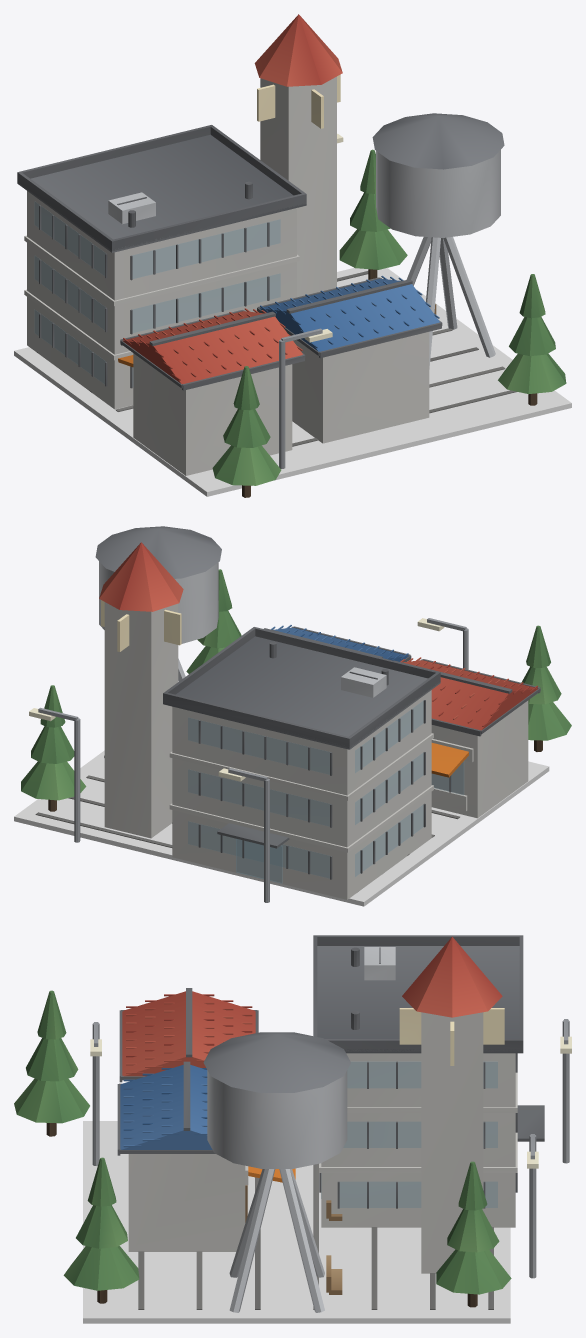
The model's file is Civic_P2.fbx.
3 views of the same model, one above another, from view 1: azimuth 30°, elevation 25°; view 2: azimuth 150°, elevation 25°; view 3: azimuth 270°, elevation 25° (orthographic). The views are drawn at different scales.
Visible parts, largest first — view 1: Civic.Hall, Civic.Shop1, Civic.Shop0, Civic.WaterTower, Civic.Plaza, Civic.Tower, Civic.Tree2, Civic.Tree1, Civic.Tree0, Civic.Lamp0, Civic.Paving; view 2: Civic.Hall, Civic.Tower, Civic.Shop0, Civic.Plaza, Civic.WaterTower, Civic.Tree0, Civic.Tree2, Civic.Tree1, Civic.Shop1, Civic.Lamp1, Civic.Lamp2, Civic.Paving (+1 smaller); view 3: Civic.Hall, Civic.Plaza, Civic.WaterTower, Civic.Tower, Civic.Shop1, Civic.Shop0, Civic.Tree2, Civic.Tree0, Civic.Tree1, Civic.Paving, Civic.Lamp2, Civic.Lamp1 (+2 smaller).
Part boxes in pixels (x1,y1,x2,y2): Civic.Hall: [17, 125, 306, 409]; Civic.Shop1: [257, 275, 442, 443]; Civic.Shop0: [118, 308, 305, 475]; Civic.WaterTower: [372, 113, 504, 369]; Civic.Plaza: [14, 268, 571, 496]; Civic.Tower: [254, 14, 342, 297]; Civic.Tree2: [212, 366, 281, 497]; Civic.Tree1: [498, 274, 566, 405]; Civic.Tree0: [339, 149, 407, 279]; Civic.Lamp0: [279, 328, 332, 468]; Civic.Paving: [37, 271, 517, 446]; Civic.Hall: [163, 627, 440, 899]; Civic.Tower: [99, 542, 183, 838]; Civic.Shop0: [394, 657, 540, 818]; Civic.Plaza: [14, 750, 549, 906]; Civic.WaterTower: [95, 526, 221, 757]; Civic.Tree0: [21, 685, 86, 811]; Civic.Tree2: [521, 625, 571, 751]; Civic.Tree1: [186, 569, 241, 673]; Civic.Shop1: [264, 625, 411, 662]; Civic.Lamp1: [29, 707, 80, 842]; Civic.Lamp2: [218, 768, 269, 902]; Civic.Paving: [35, 775, 459, 855]; Civic.Hall: [313, 935, 544, 1227]; Civic.Plaza: [83, 1121, 510, 1323]; Civic.WaterTower: [203, 1032, 350, 1312]; Civic.Tower: [399, 936, 504, 1273]; Civic.Shop1: [117, 1061, 295, 1251]; Civic.Shop0: [119, 988, 258, 1082]; Civic.Tree2: [14, 990, 89, 1136]; Civic.Tree0: [436, 1161, 511, 1307]; Civic.Tree1: [63, 1157, 139, 1303]; Civic.Paving: [138, 1163, 493, 1309]; Civic.Lamp2: [560, 1019, 571, 1163]; Civic.Lamp1: [527, 1134, 538, 1278].
Bounding box in the file's own units: 2524 × 1871 × 2870.
